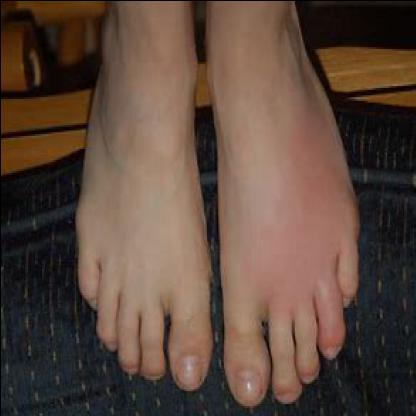Wasp: (247, 113, 344, 346)
